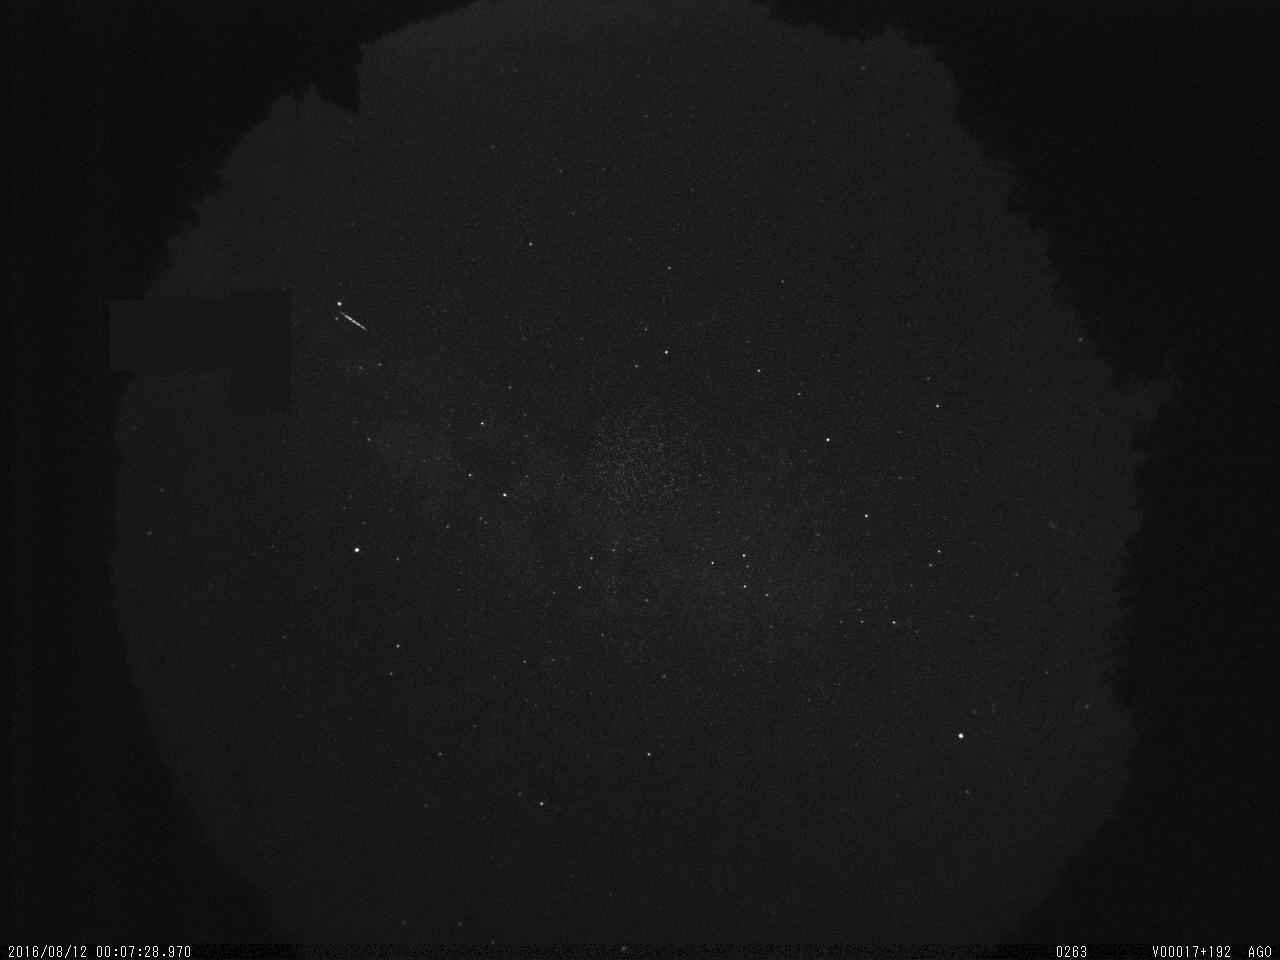meteor: (336, 305, 376, 336)
